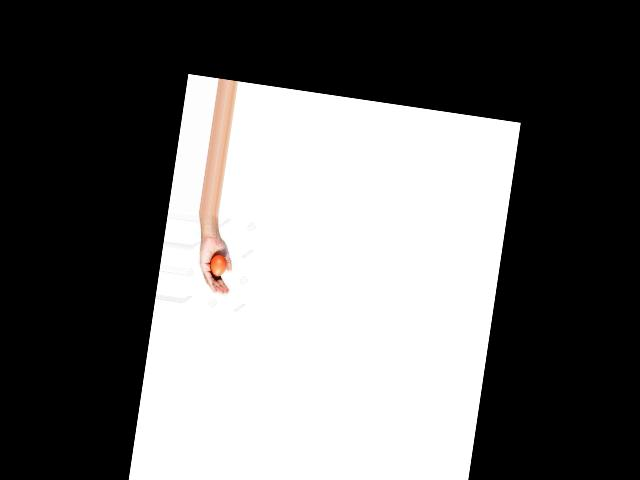egg: (208, 253, 227, 277)
